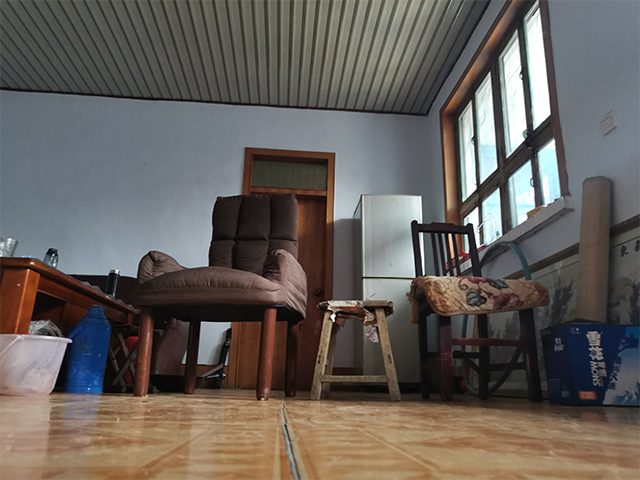stool: (130, 190, 311, 402), (409, 217, 547, 405), (307, 298, 404, 402), (107, 319, 166, 397)
table: (1, 256, 146, 399)
